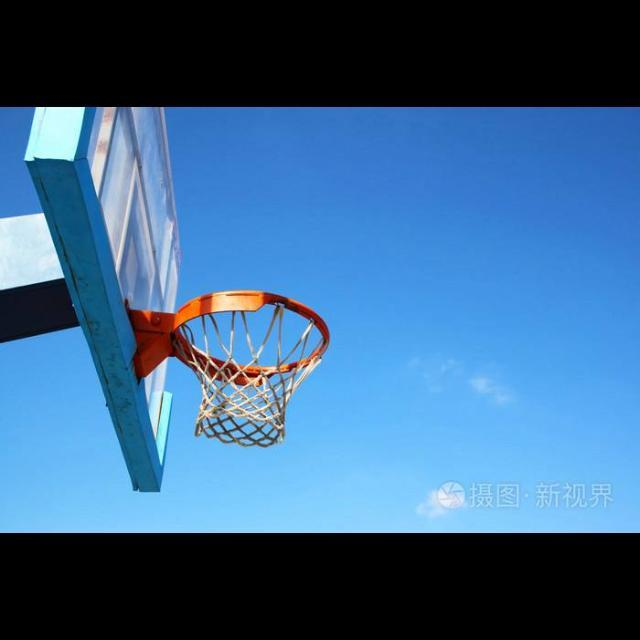rim: (172, 290, 328, 450)
